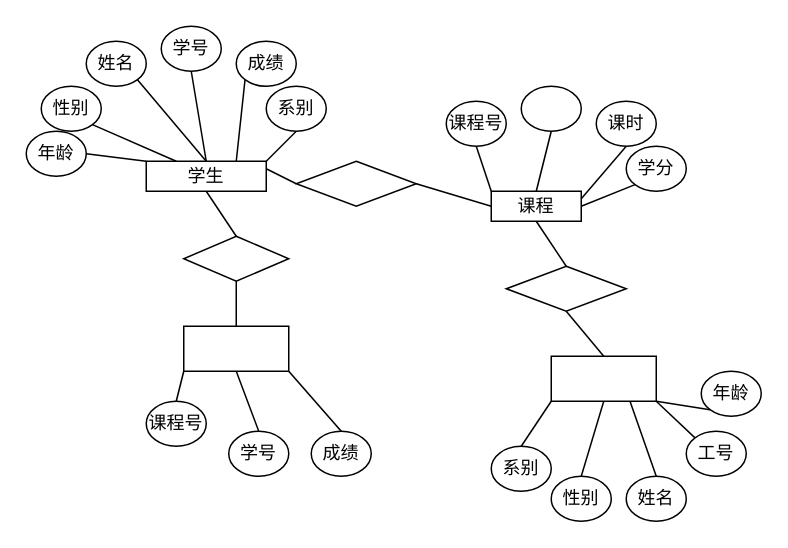
The diagram is 788 pixels wide and 548 high, and some of its shapes have lost their labels. Each missing label, with the box of its shape:
学习: (295, 160, 416, 206)
成绩信息: (182, 325, 289, 371)
拥有: (182, 235, 289, 281)
教授: (505, 265, 626, 311)
老师: (550, 355, 656, 401)
课程名: (520, 85, 581, 131)
